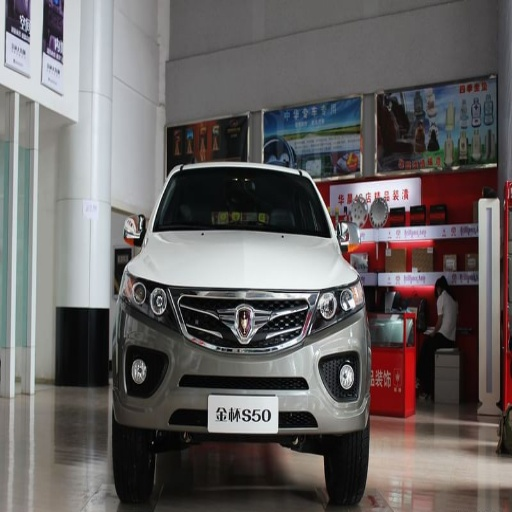front_bumper: (115, 284, 374, 439)
front_right_light: (121, 272, 162, 315)
hood: (134, 232, 357, 289)
